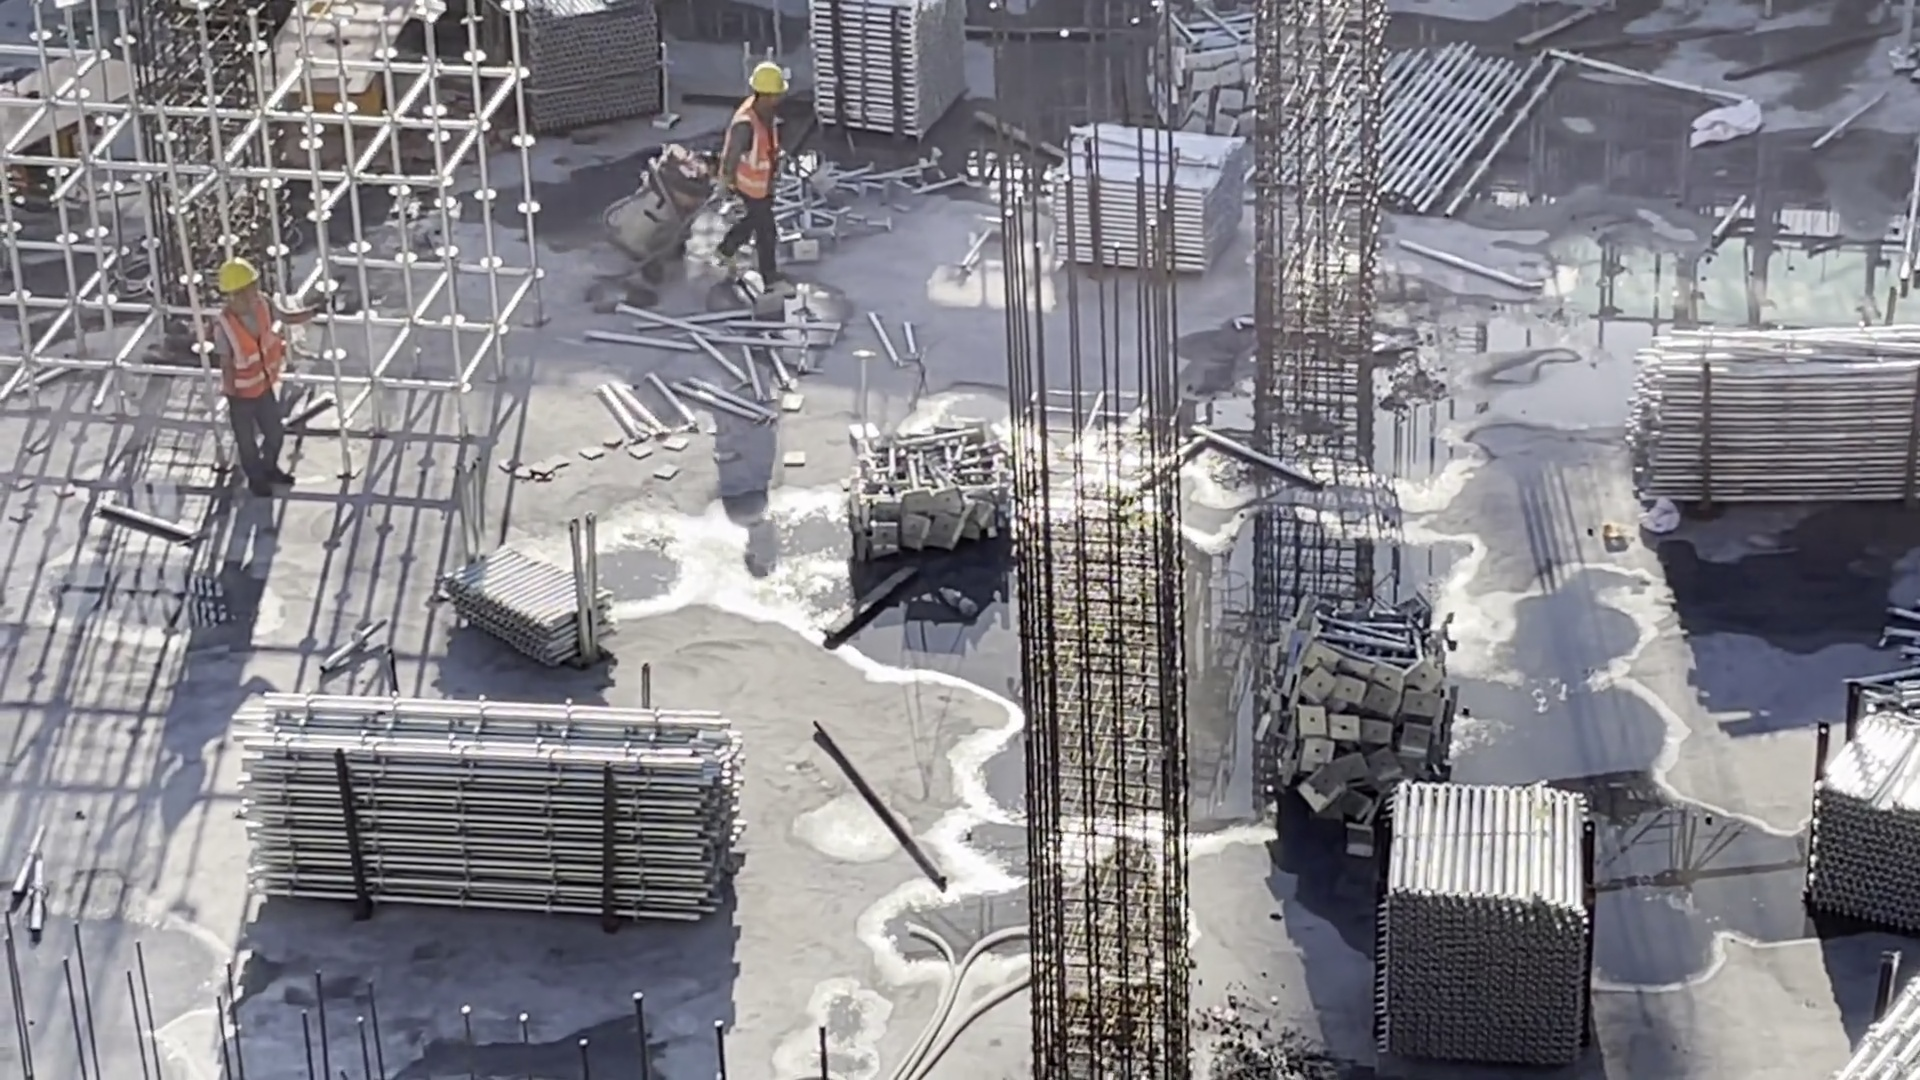cutter: (1, 42, 192, 205), (251, 1, 434, 143)
helmet: (214, 257, 267, 297), (745, 61, 795, 94)
person: (207, 256, 317, 491), (707, 60, 808, 297)
scaffold: (240, 685, 739, 928), (1377, 779, 1601, 1057), (1606, 327, 1919, 512), (1266, 603, 1473, 838), (1345, 50, 1567, 204), (1049, 124, 1245, 274), (1790, 712, 1920, 918), (1143, 7, 1315, 145), (488, 1, 672, 121), (804, 1, 968, 136), (447, 540, 624, 665), (849, 427, 1010, 556), (1828, 984, 1916, 1080), (1878, 603, 1920, 690)
vest: (217, 305, 291, 399), (727, 112, 786, 205)
